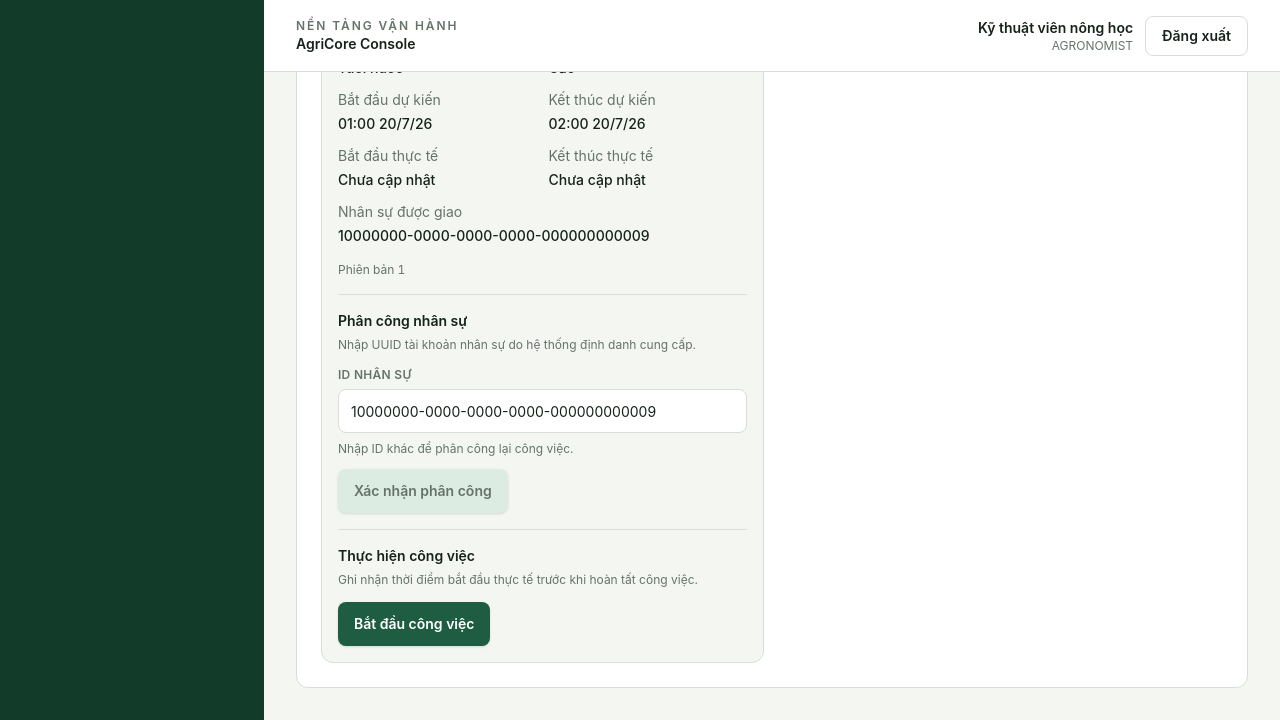
Scenario: work-task start workspace › starts an assigned task before exposing completion
(page scrolled)
Click the button "Bắt đầu công việc" at (414, 624), box [338,602,490,646]
(page scrolled)
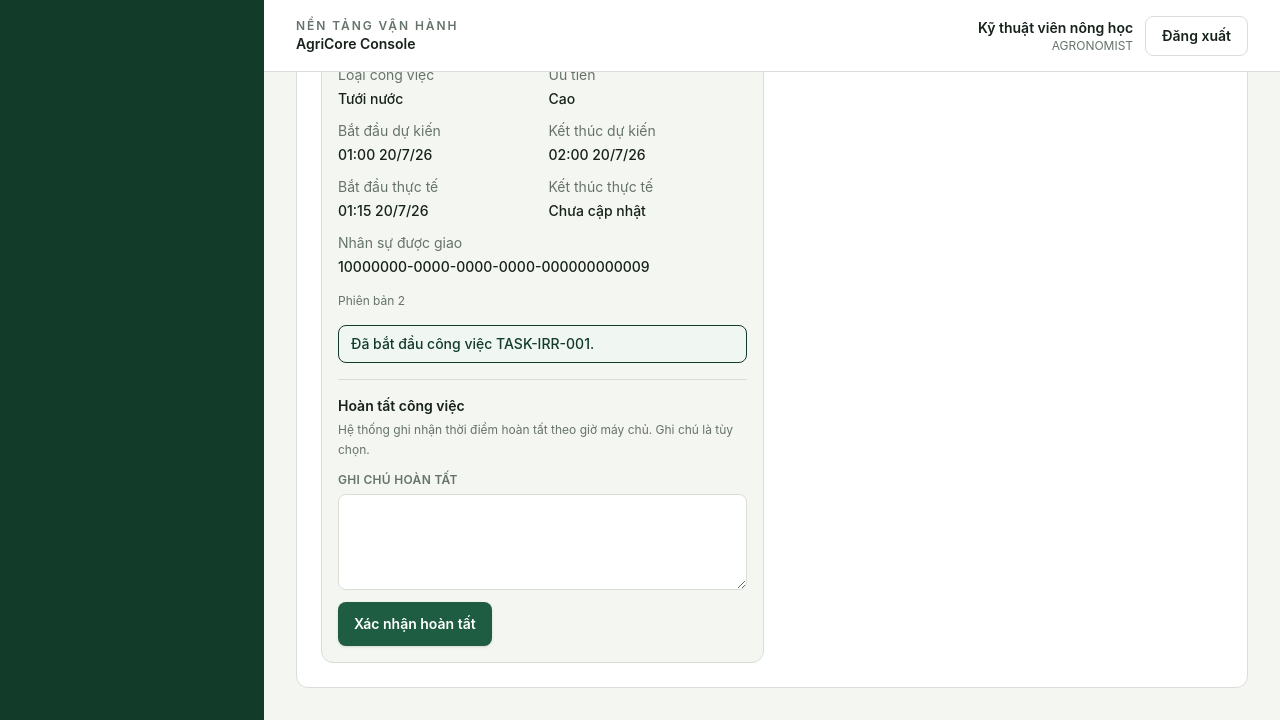
Expected: the message named "Bắt đầu công việc thành công" shows "TASK-IRR-001", [351,335,594,352]
